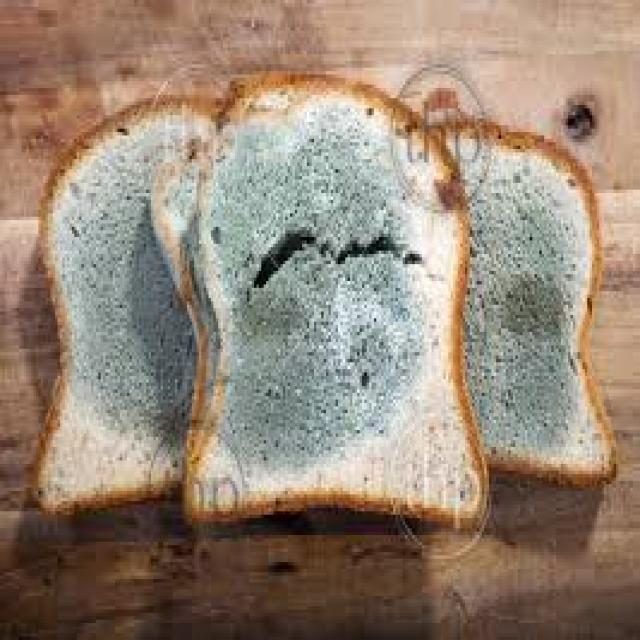organic waste: (149, 68, 489, 525), (27, 88, 225, 508), (420, 115, 614, 484)
